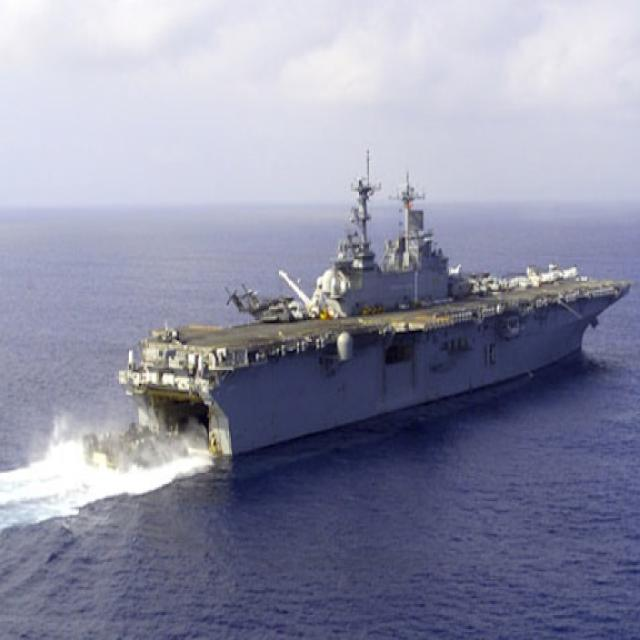navalvessels: (127, 114, 629, 470)
